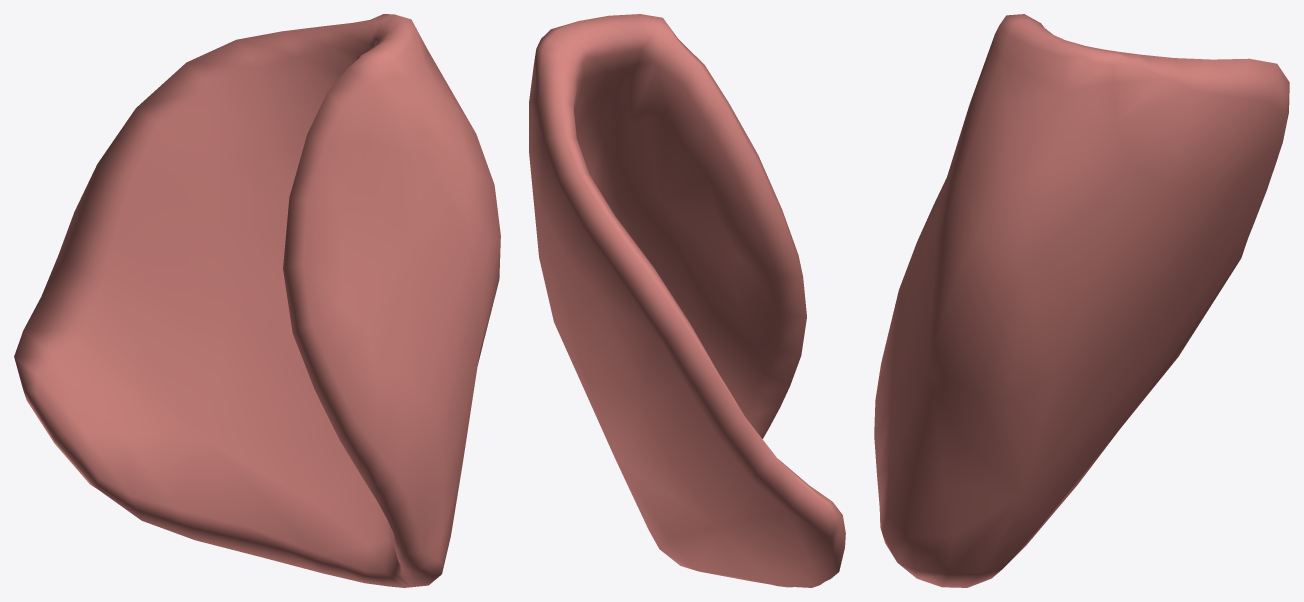
3 views of the same model, side by side, from view 1: azimuth 30°, elevation 25°; view 2: azimuth 150°, elevation 25°; view 3: azimuth 270°, elevation 25° (orthographic). The views are drawn at different scales.
Visible parts, largest first — view 1: ZA_f012403dbadeea0d; view 2: ZA_f012403dbadeea0d; view 3: ZA_f012403dbadeea0d.
Boxes of the visible parts, <box> form: ZA_f012403dbadeea0d: <box>14,14,500,587</box>; ZA_f012403dbadeea0d: <box>529,14,845,587</box>; ZA_f012403dbadeea0d: <box>874,14,1289,587</box>.
Size of the model in its own units: 0.00427 by 0.00564 by 0.00372.
